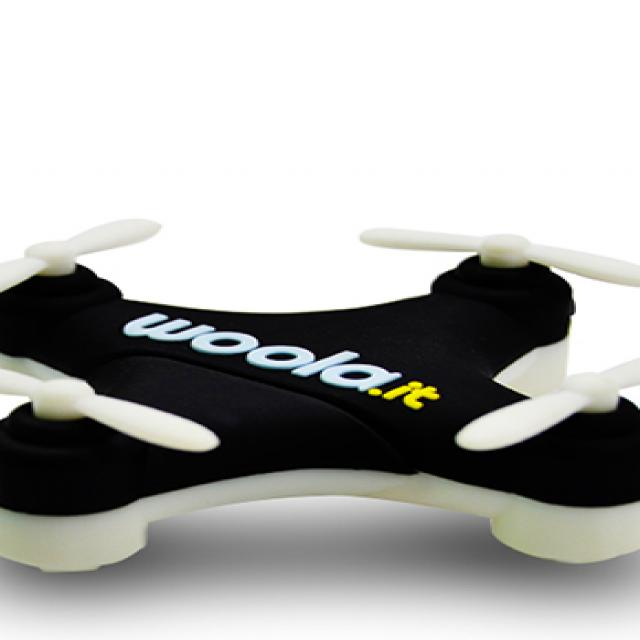drone: (0, 210, 640, 575)
